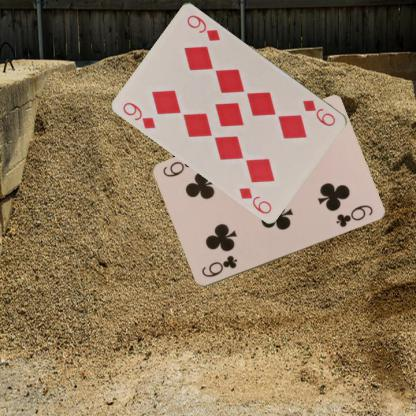6c: (198, 253, 238, 279)
9d: (300, 97, 338, 128), (120, 99, 157, 130)
